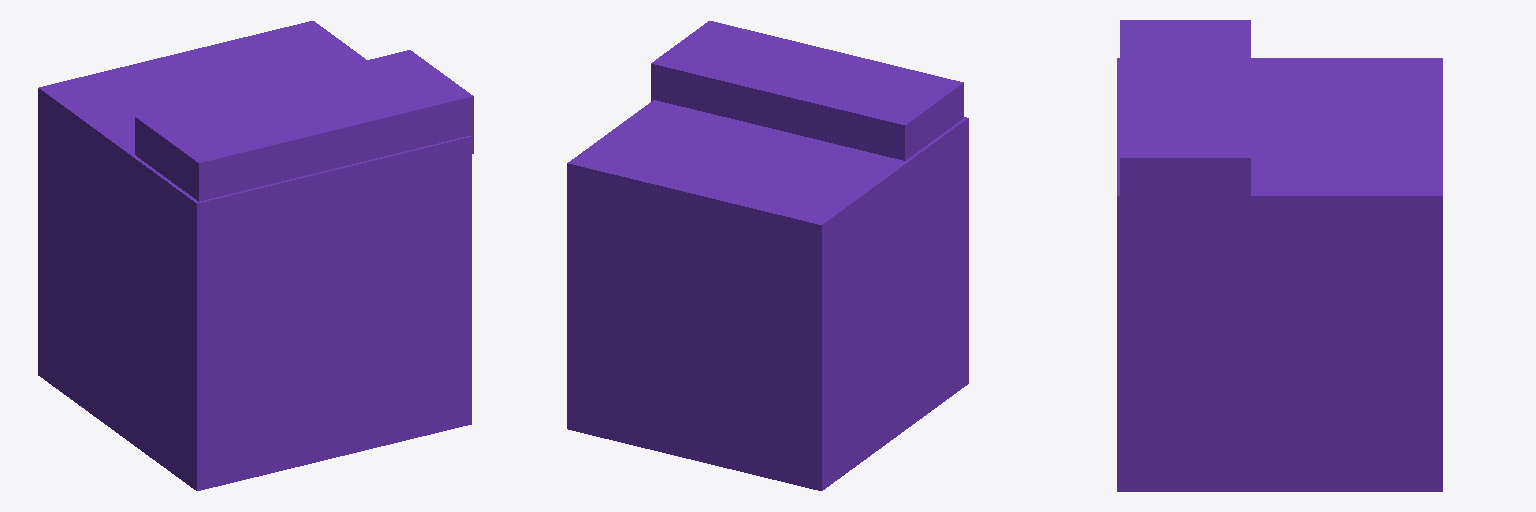
The robot description file, URDF, robot "cube.urdf":
<?xml version="1.0" ?>
<robot name="cube.urdf">
  <link concave="yes" name="baseLink">
    <inertial>
      <origin rpy="0 0 0" xyz="0 0 0"/>
       <mass value="0.0"/>
       <inertia ixx="0" ixy="0" ixz="0" iyy="0" iyz="0" izz="0"/>
    </inertial>
    <visual>
      <origin rpy="0 0 0" xyz="0 0 0"/>
      <geometry>
				<mesh filename="jogi2.stl" scale="0.3 0.3 0.3"/>
      </geometry>
       <material name="white">
        <color rgba="0.5 0.3 0.8 1.0"/>
      </material>
    </visual>
    <collision concave="yes">
      <origin rpy="0 0 0" xyz="0 0 0"/>
     <geometry>
				<mesh filename="jogi2.stl" scale="0.3 0.3 0.3"/>
      </geometry>
    </collision>
  </link>
</robot>

--- Facts derived from the render (not from the file) ---
The picture shows the robot from 3 angles, left to right: view 1: azimuth 30°, elevation 25°; view 2: azimuth 150°, elevation 25°; view 3: azimuth 270°, elevation 25°; orthographic projection.
Robot: cube.urdf — 1 links, 0 joints (none); root link baseLink; default pose: every joint at zero.
Visible links, largest first — view 1: baseLink; view 2: baseLink; view 3: baseLink.
Boxes of the visible links, x1=… form: baseLink: x1=38, y1=21, x2=473, y2=490; baseLink: x1=567, y1=21, x2=968, y2=490; baseLink: x1=1117, y1=20, x2=1442, y2=491.
Bounding box of the posed robot: 0.3037 × 0.3 × 0.3401 m (x, y, z).
1 mesh visuals loaded from 1 distinct referenced files (1 binary STL).
